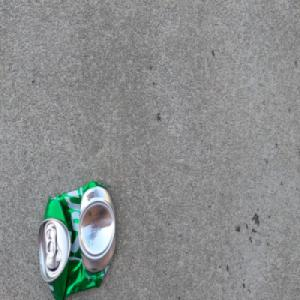SodaCan: (37, 179, 116, 300)
